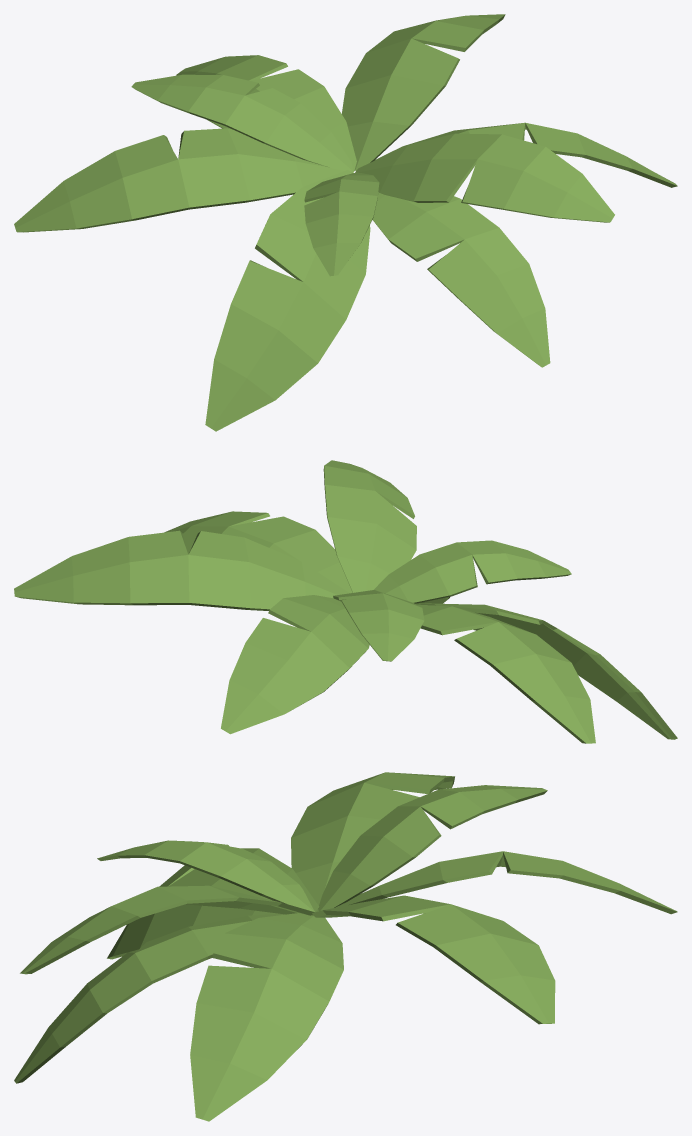
Rendered from Bush_02.fbx.
The picture shows the model from 3 angles, top to bottom: view 1: azimuth 30°, elevation 25°; view 2: azimuth 150°, elevation 25°; view 3: azimuth 270°, elevation 25°; orthographic projection. The views are drawn at different scales.
Parts seen in each view (by area): view 1: Bush_02; view 2: Bush_02; view 3: Bush_02.
Part boxes in pixels (left/top/right/bottom): Bush_02: left=14, top=14, right=677, bottom=431; Bush_02: left=14, top=460, right=677, bottom=743; Bush_02: left=14, top=772, right=677, bottom=1121.
Bounding box in the file's own units: 183 × 64.23 × 161.
